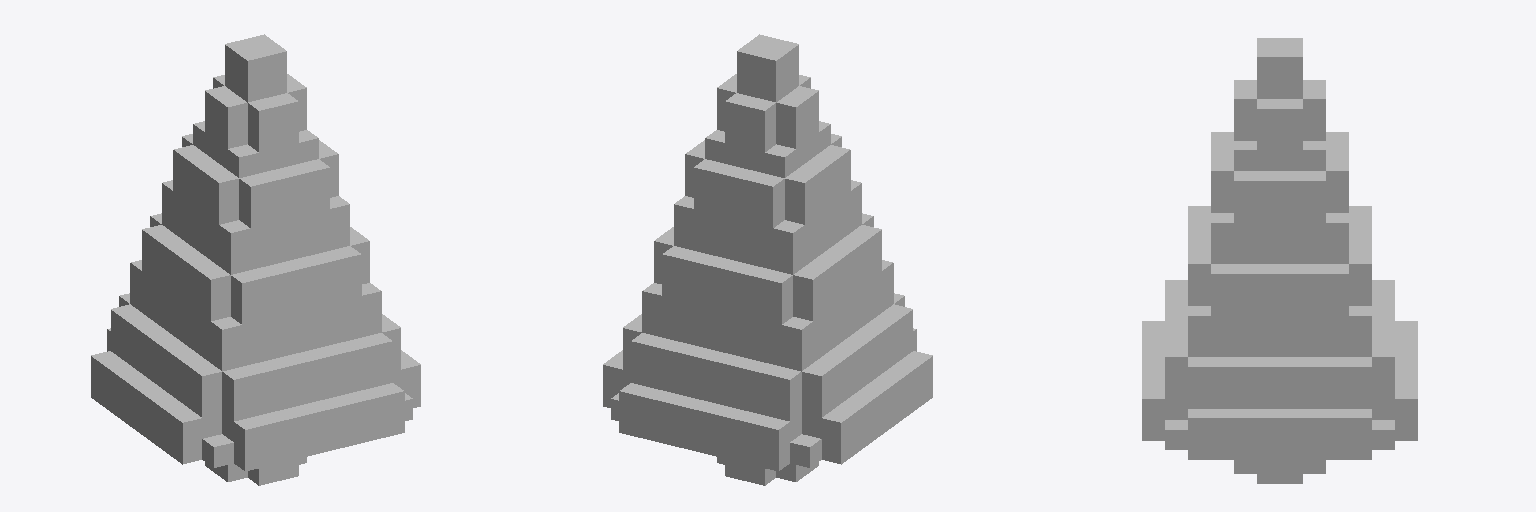
File: Tree basic.obj
The picture shows the model from 3 angles: view 1: azimuth 30°, elevation 25°; view 2: azimuth 150°, elevation 25°; view 3: azimuth 270°, elevation 25°; orthographic projection.
Bounding box in the file's own units: 12 × 20 × 12.